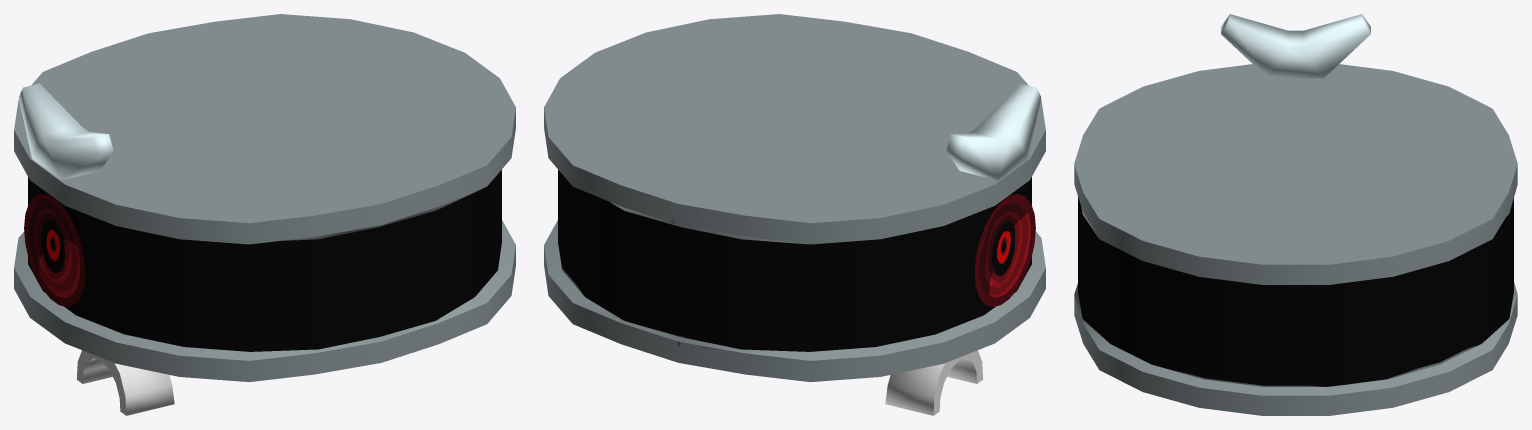
The model's file is None_MonoEye_MouthSad.fbx.
The picture shows the model from 3 angles, left to right: view 1: azimuth 30°, elevation 25°; view 2: azimuth 150°, elevation 25°; view 3: azimuth 270°, elevation 25°; orthographic projection. The views are drawn at different scales.
Visible parts, largest first — view 1: Eyes_Monoeye, Mouth_Sad; view 2: Eyes_Monoeye, Mouth_Sad; view 3: Eyes_Monoeye.
Boxes of the visible parts, x1=… form: Eyes_Monoeye: x1=14, y1=14, x2=515, y2=382; Mouth_Sad: x1=76, y1=350, x2=174, y2=415; Eyes_Monoeye: x1=544, y1=14, x2=1045, y2=382; Mouth_Sad: x1=885, y1=350, x2=983, y2=415; Eyes_Monoeye: x1=1074, y1=14, x2=1517, y2=415.
Size of the model in its own units: 66.24 by 42.95 by 61.38.
1 material, 1 textured.
